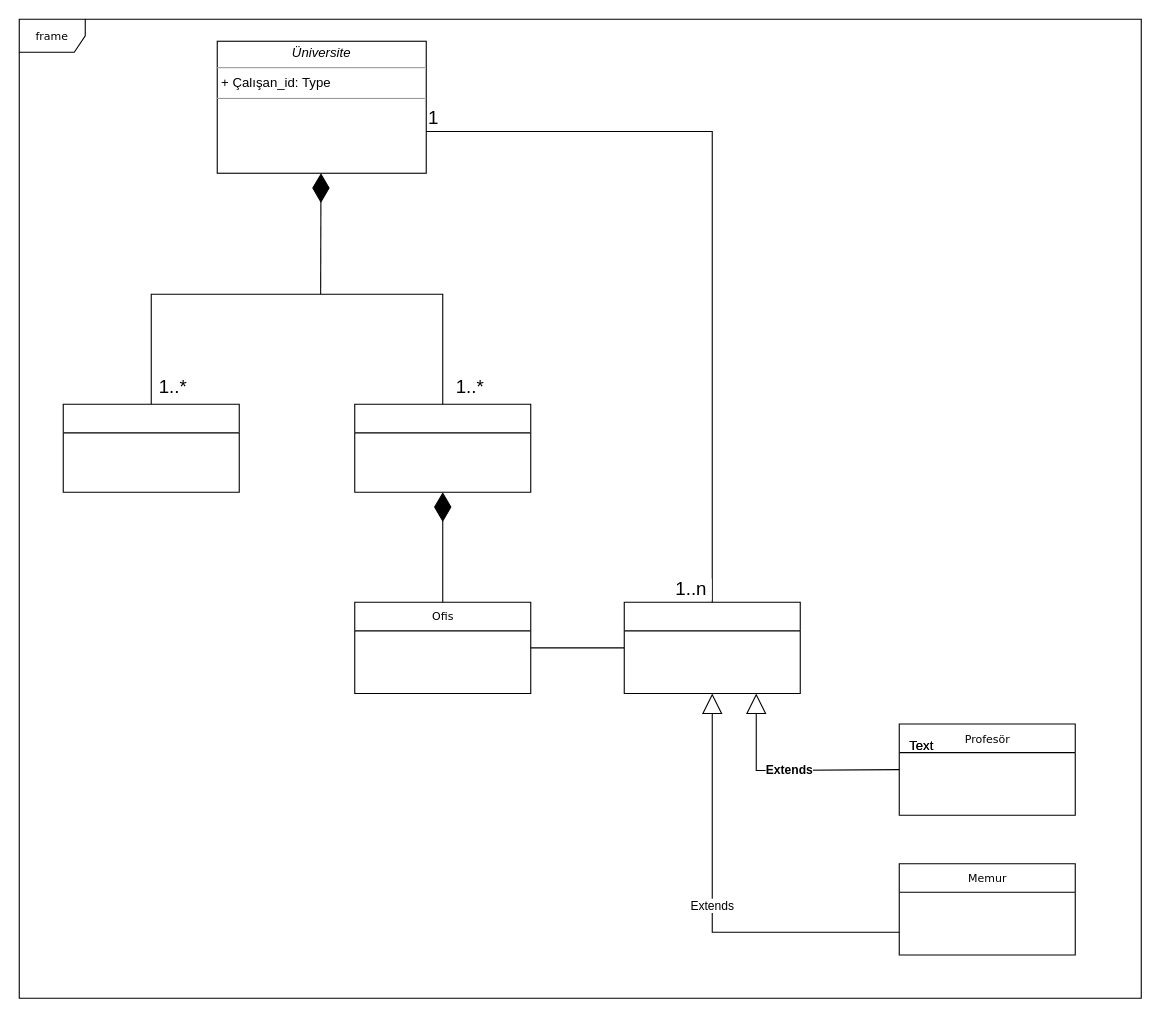
The diagram is 1161 pixels wide and 1018 high, and some of its shapes have lost their labels. The shapes that lost their labels are listed below. From the top down, each one's centre as x and y in pixels, then its label:
At (x=150, y=447): "Sınıflık".
At (x=442, y=447): "Departman".
At (x=711, y=647): "Çalışan".
